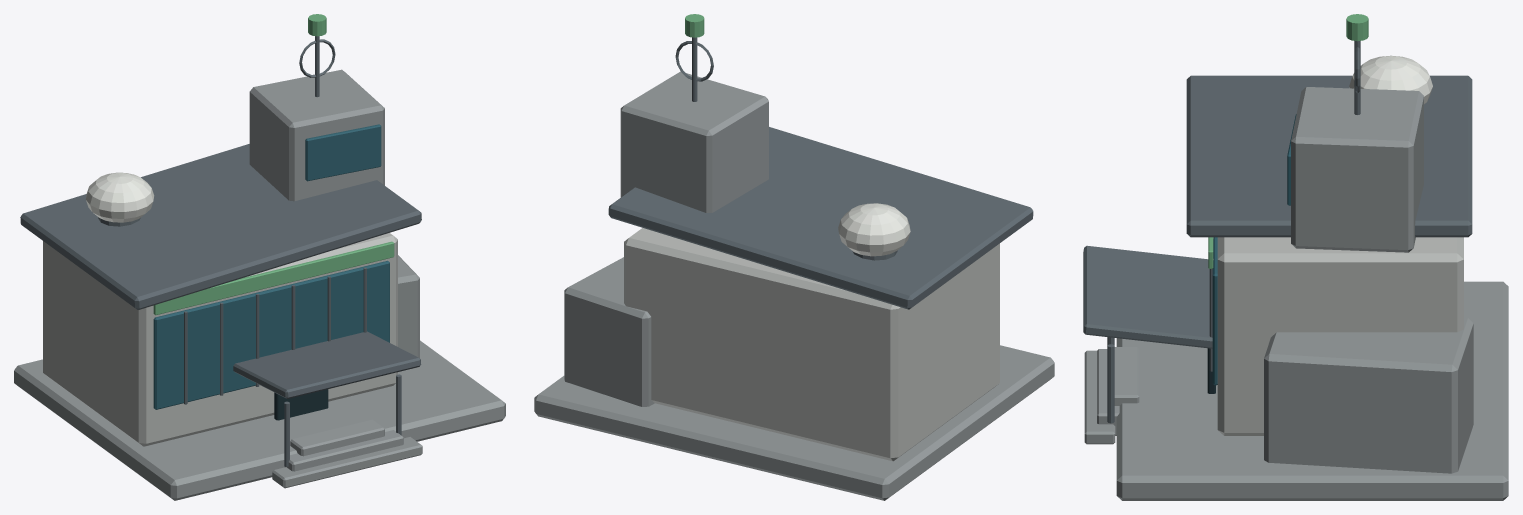
The model's file is edificio-center-e5-BKzWuusY.glb.
The picture shows the model from 3 angles, left to right: view 1: azimuth 30°, elevation 25°; view 2: azimuth 150°, elevation 25°; view 3: azimuth 270°, elevation 25°; orthographic projection. The views are drawn at different scales.
Visible parts, largest first — view 1: centro_e5_mamposteria, centro_e5_estructura, centro_e5_cubierta_detalles, centro_e5_team_color; view 2: centro_e5_mamposteria, centro_e5_estructura, centro_e5_cubierta_detalles; view 3: centro_e5_mamposteria, centro_e5_estructura, centro_e5_cubierta_detalles, centro_e5_team_color.
Boxes of the visible parts, x1=… form: centro_e5_mamposteria: x1=14, y1=69, x2=505, y2=500; centro_e5_estructura: x1=20, y1=36, x2=421, y2=466; centro_e5_cubierta_detalles: x1=85, y1=124, x2=389, y2=420; centro_e5_team_color: x1=153, y1=14, x2=394, y2=315; centro_e5_mamposteria: x1=534, y1=71, x2=1054, y2=500; centro_e5_estructura: x1=608, y1=37, x2=1033, y2=309; centro_e5_cubierta_detalles: x1=838, y1=203, x2=910, y2=256; centro_e5_mamposteria: x1=1084, y1=87, x2=1508, y2=500; centro_e5_estructura: x1=1083, y1=41, x2=1472, y2=423; centro_e5_cubierta_detalles: x1=1207, y1=55, x2=1432, y2=393; centro_e5_team_color: x1=1208, y1=14, x2=1368, y2=268.
Bounding box in the file's own units: 85.99 × 84.75 × 75.98.
